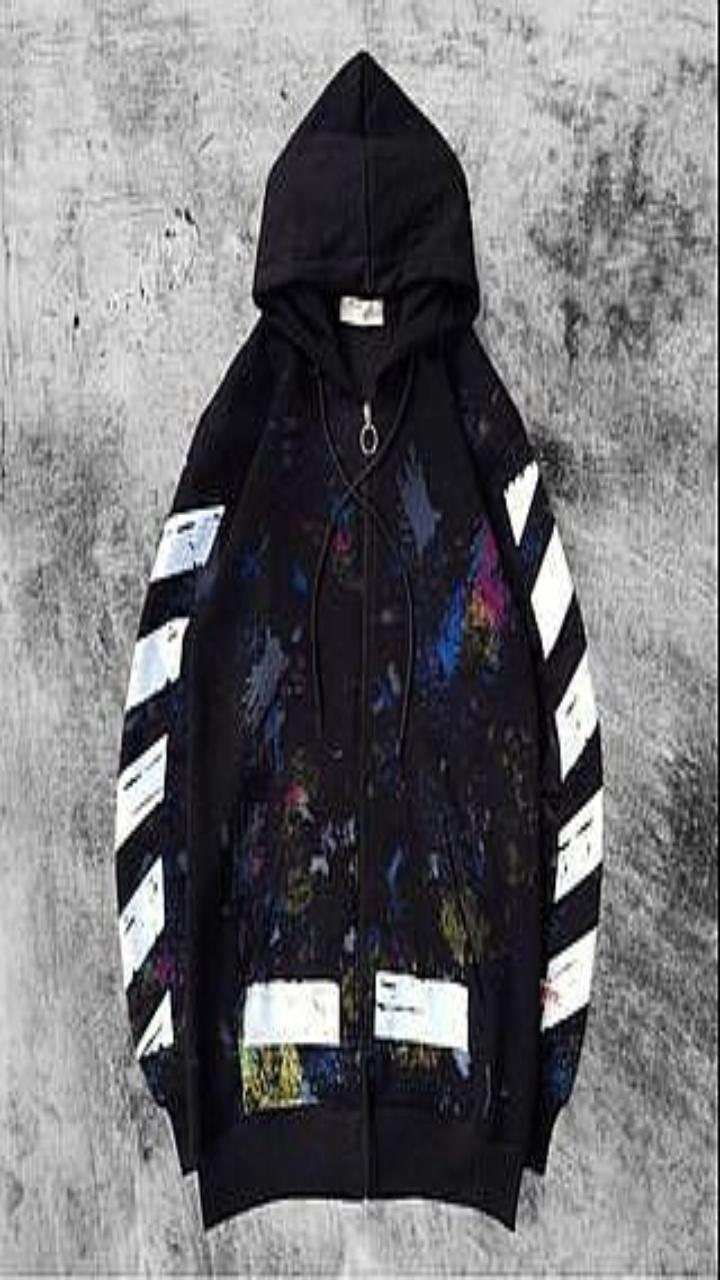Sports_Jacket: (115, 50, 602, 1229)
